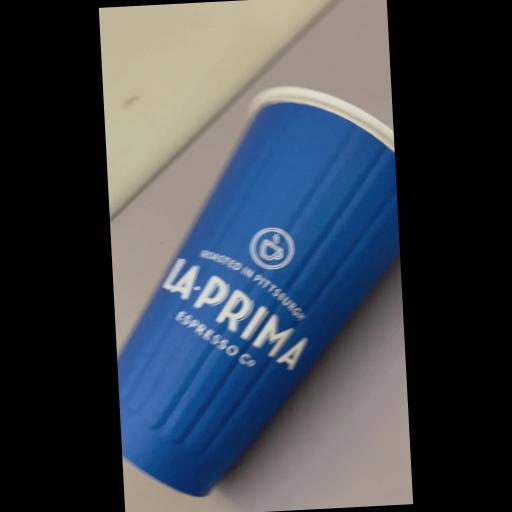lp_paper_cup: (104, 84, 410, 500)
